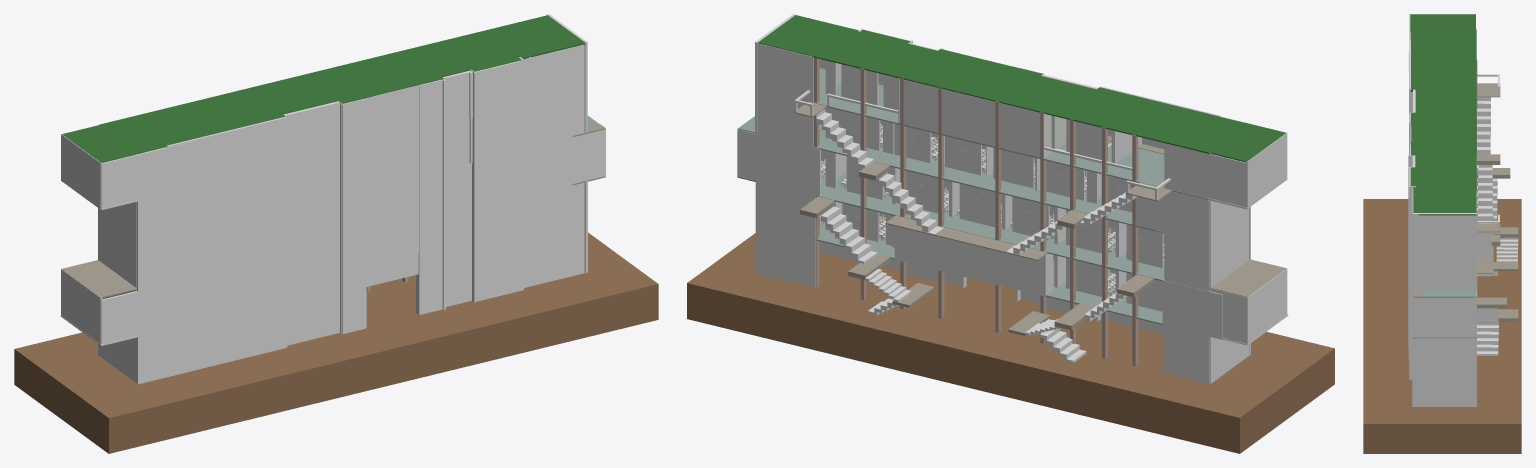
3 renders of one model, left to right at view 1: azimuth 30°, elevation 25°; view 2: azimuth 150°, elevation 25°; view 3: azimuth 270°, elevation 25°, orthographic. The views are drawn at different scales.
Parts seen in each view (by area): view 1: Cube.093, Cube.017, Cube.071, Cube.001, Cube.015, Cube.005, Cube.011, Cube.007, Cube.138, Cube.013, Cube.009, Cube.040 (+13 smaller); view 2: Cube.093, Cube.071, Cube.082, Cube.025, Cube.131, Cube.028, MN 301, Cube.055, Cube.067, Cube.002, Cube.056, MN 106 (+46 smaller); view 3: Cube.093, Cube.071, Cube.109, Cube, Cube.106, Cube.137, Cube.096, Cube.1428, Cube.004, Cube.1429, Cube.157, Cube.074 (+20 smaller).
Boxes of the visible parts, x1,y1,x2,y2 form: Cube.093: [14, 232, 658, 453]; Cube.017: [166, 116, 286, 369]; Cube.071: [99, 15, 581, 149]; Cube.001: [524, 44, 584, 287]; Cube.015: [283, 101, 339, 345]; Cube.005: [476, 60, 523, 301]; Cube.011: [366, 85, 419, 286]; Cube.007: [443, 70, 471, 306]; Cube.138: [137, 184, 196, 291]; Cube.013: [342, 98, 365, 333]; Cube.009: [419, 79, 442, 314]; Cube.040: [137, 277, 196, 384]; Cube.093: [687, 233, 1334, 453]; Cube.071: [758, 17, 1243, 153]; Cube.082: [899, 79, 1040, 157]; Cube.025: [894, 226, 1046, 296]; Cube.131: [1164, 191, 1209, 291]; Cube.028: [737, 163, 1164, 281]; MN 301: [737, 129, 820, 196]; Cube.055: [738, 116, 1164, 233]; Cube.067: [813, 70, 1208, 199]; Cube.002: [755, 226, 816, 287]; Cube.056: [1209, 200, 1249, 291]; MN 106: [1162, 279, 1222, 339]; Cube.093: [1363, 199, 1521, 453]; Cube.071: [1418, 29, 1476, 215]; Cube.109: [1413, 213, 1477, 289]; Cube: [1412, 329, 1476, 406]; Cube.106: [1414, 297, 1475, 337]; Cube.137: [1410, 14, 1475, 31]; Cube.096: [1478, 165, 1492, 223]; Cube.1428: [1477, 97, 1490, 154]; Cube.004: [1409, 186, 1415, 379]; Cube.1429: [1477, 322, 1499, 355]; Cube.157: [1496, 237, 1518, 261]; Cube.074: [1410, 29, 1418, 91].
Bounding box in the file's own units: 42.46 × 19.66 × 12.64.
